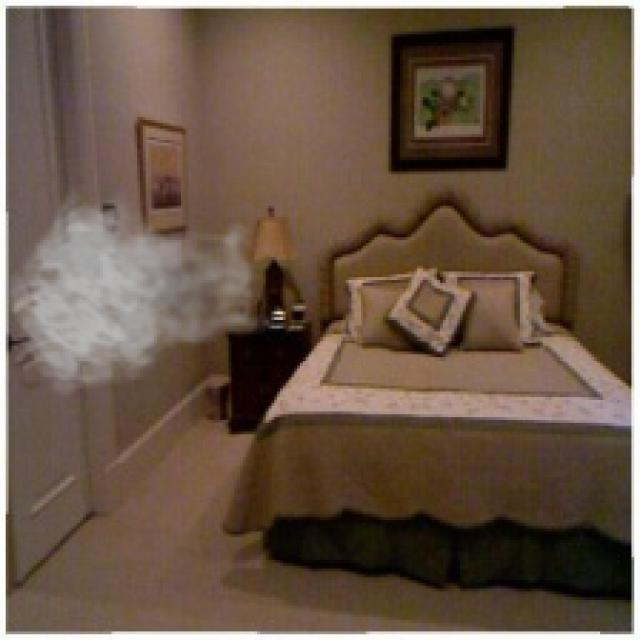Smoke: (6, 186, 274, 397)
